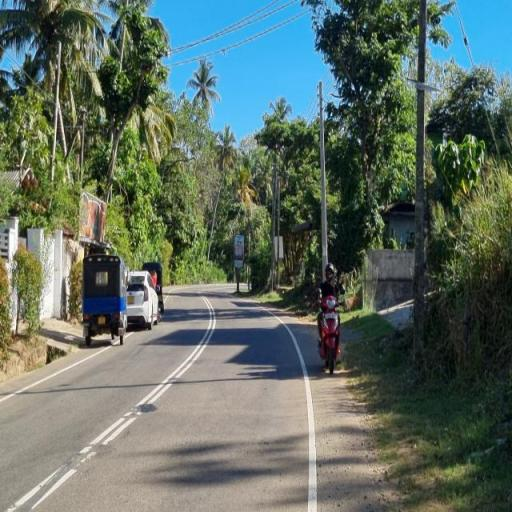double_white_line: (78, 295, 216, 466)
